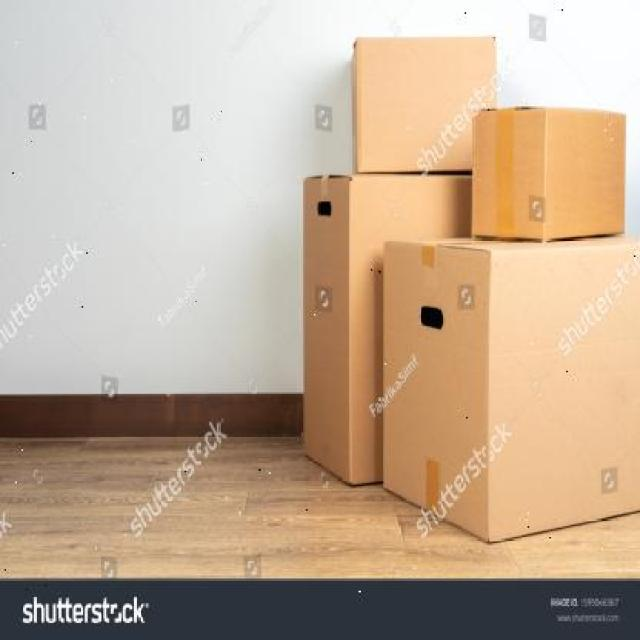BoxFace: (382, 238, 490, 544), (357, 35, 495, 171), (302, 175, 350, 488), (472, 107, 545, 241)
